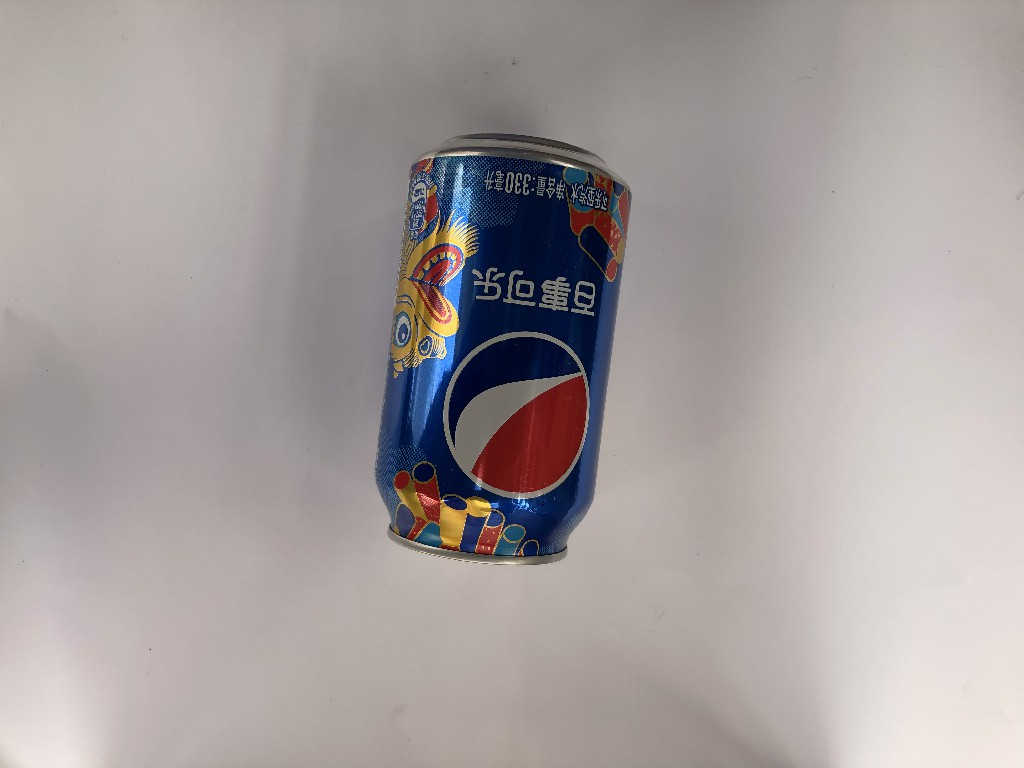can: (370, 126, 633, 574)
